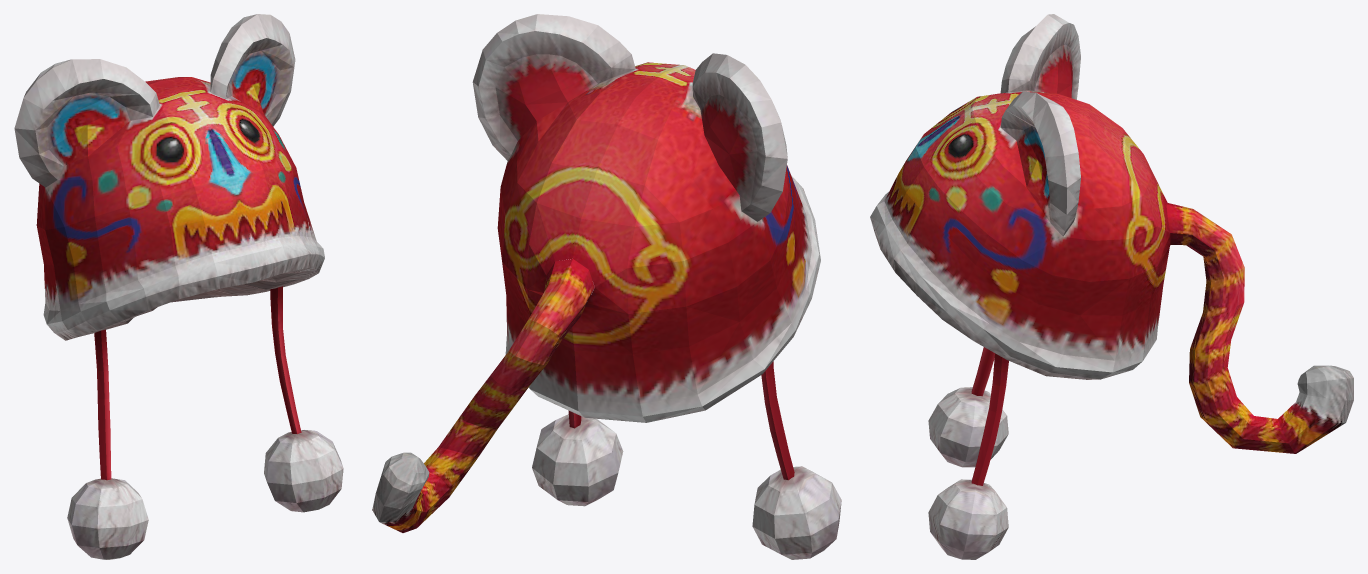
The model's file is itog.glb.
3 renders of one model, left to right at view 1: azimuth 30°, elevation 25°; view 2: azimuth 150°, elevation 25°; view 3: azimuth 270°, elevation 25°, orthographic. The views are drawn at different scales.
Parts seen in each view (by area): view 1: 1-_Material__79_1-_Material__79_1.1-_Material__79; view 2: 1-_Material__79_1-_Material__79_1.1-_Material__79; view 3: 1-_Material__79_1-_Material__79_1.1-_Material__79.
Part boxes in pixels (x1,y1,x2,y2): 1-_Material__79_1-_Material__79_1.1-_Material__79: (14,14,343,559); 1-_Material__79_1-_Material__79_1.1-_Material__79: (372,14,841,559); 1-_Material__79_1-_Material__79_1.1-_Material__79: (870,14,1353,559).
Bounding box in the file's own units: 14.59 × 23.11 × 22.46.
Materials: 1 (1 with a texture image).
